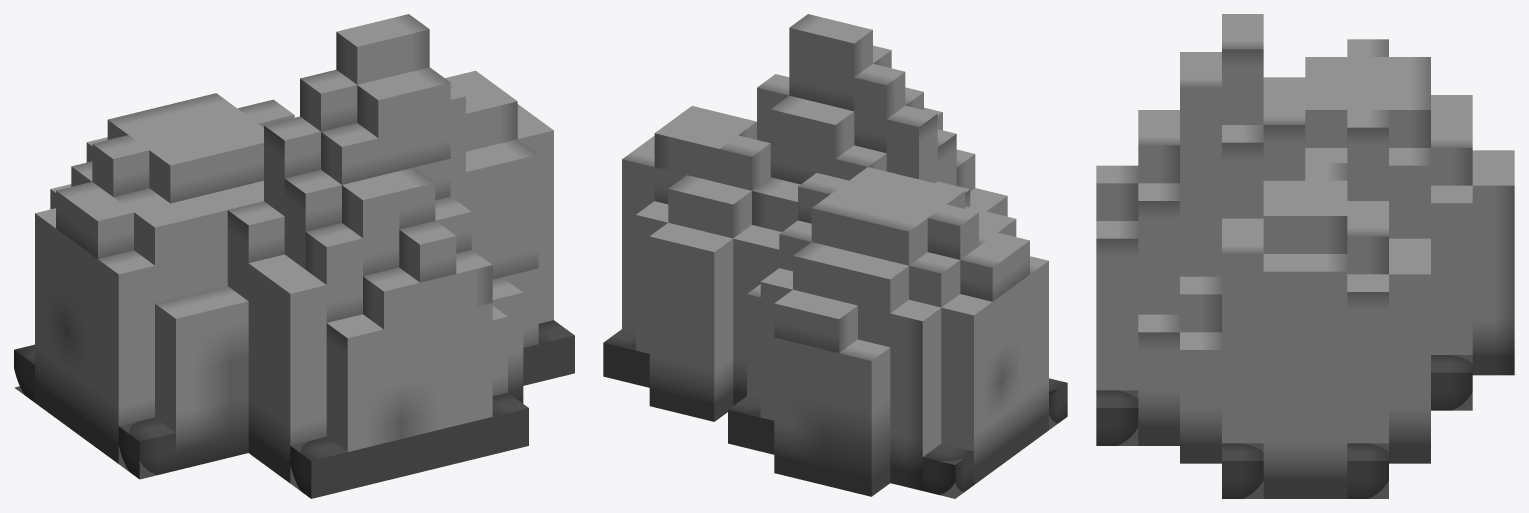
Rendered from Rock2.obj.
3 renders of one model, left to right at view 1: azimuth 30°, elevation 25°; view 2: azimuth 150°, elevation 25°; view 3: azimuth 270°, elevation 25°, orthographic. The views are drawn at different scales.
Visible parts, largest first — view 1: Rock2; view 2: Rock2; view 3: Rock2.
Part boxes in pixels (x1=…): Rock2: x1=14, y1=14, x2=574, y2=498; Rock2: x1=603, y1=14, x2=1067, y2=498; Rock2: x1=1096, y1=14, x2=1514, y2=498.
Bounding box in the file's own units: 12 × 10 × 10.
1 material, 1 textured.
